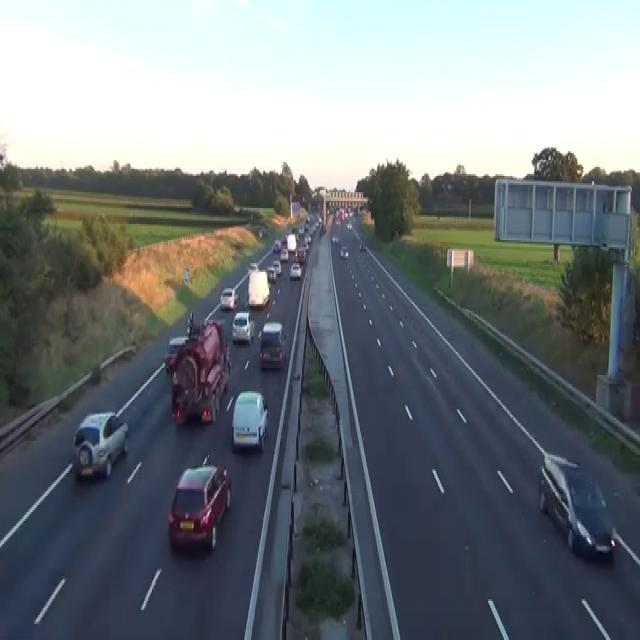Car: (539, 453, 617, 562), (167, 453, 231, 551), (72, 411, 128, 480), (231, 389, 268, 452), (258, 322, 284, 368), (164, 336, 189, 373), (231, 311, 255, 345), (258, 322, 283, 343), (219, 286, 238, 310), (167, 336, 188, 350), (289, 261, 301, 279), (266, 265, 276, 283), (272, 260, 282, 276), (295, 247, 305, 263), (247, 262, 258, 276), (272, 238, 281, 252), (340, 246, 348, 260), (280, 247, 288, 261), (319, 224, 326, 235), (331, 234, 339, 243), (280, 235, 287, 245), (359, 240, 364, 251), (346, 222, 352, 230), (335, 218, 341, 226), (291, 226, 297, 233), (258, 228, 262, 238), (352, 208, 357, 215)
Truck: (164, 315, 230, 425), (247, 268, 270, 308)
